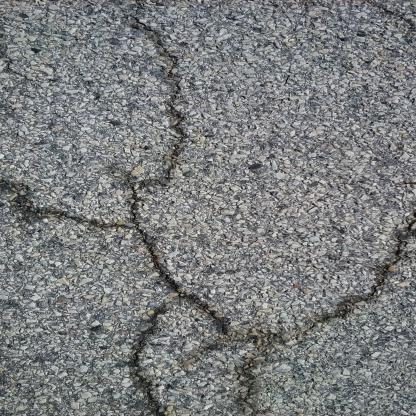Cracks: (113, 0, 270, 415), (249, 217, 415, 346), (0, 179, 139, 243)
